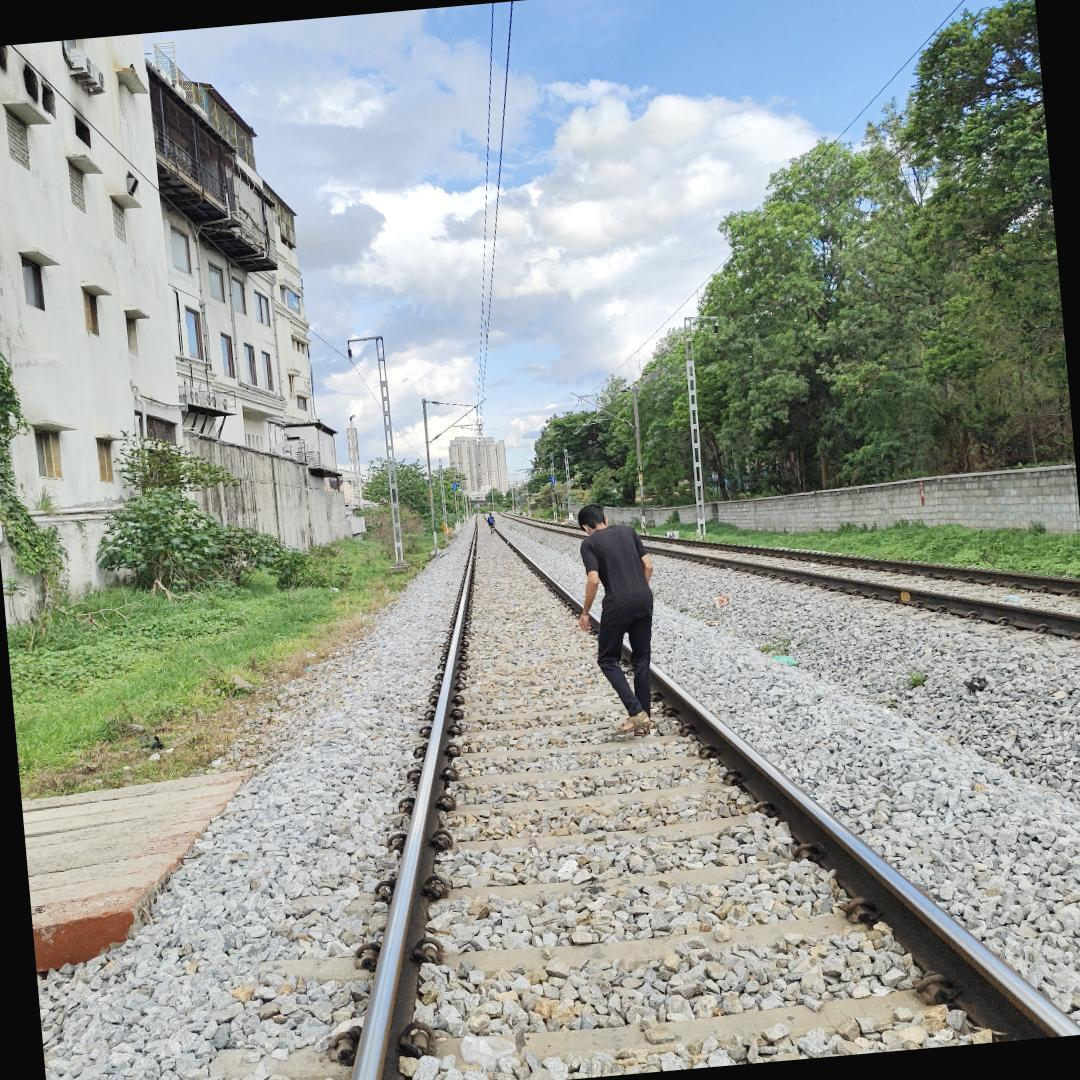standing: (570, 495, 678, 736), (486, 512, 496, 534)
